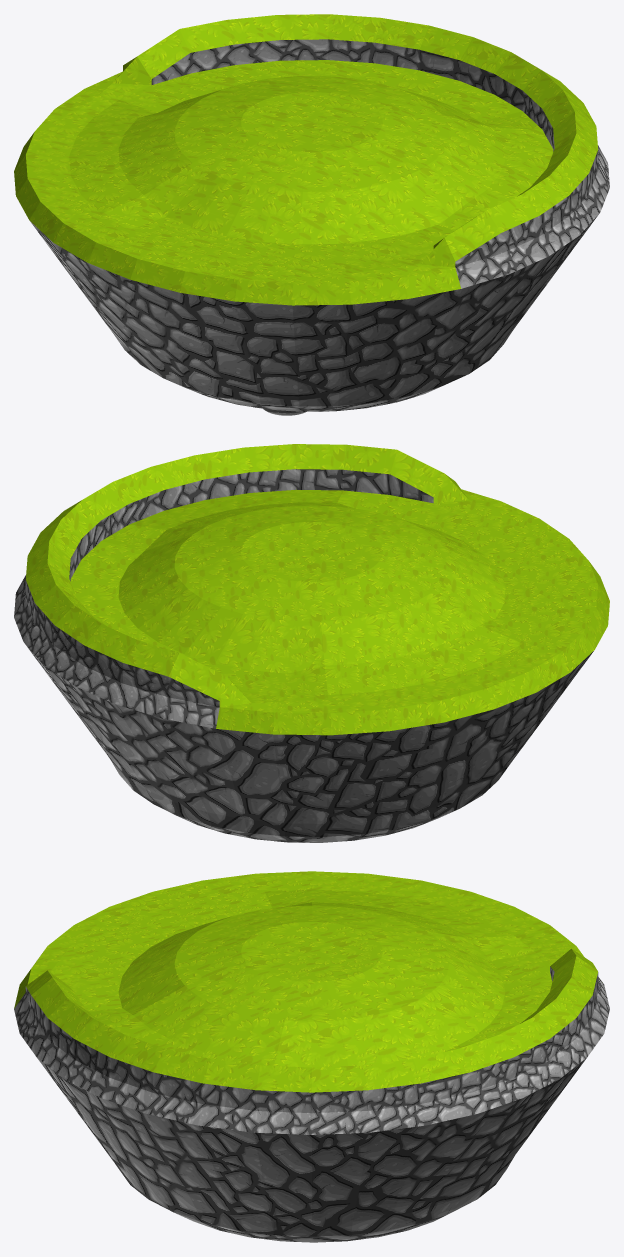
File: IslaGrande.glb
The picture shows the model from 3 angles, top to bottom: view 1: azimuth 30°, elevation 25°; view 2: azimuth 150°, elevation 25°; view 3: azimuth 270°, elevation 25°; orthographic projection.
Visible parts, largest first — view 1: Circle; view 2: Circle; view 3: Circle.
Boxes of the visible parts, bbox=[...] form: Circle: bbox=[14, 14, 609, 415]; Circle: bbox=[14, 444, 609, 842]; Circle: bbox=[14, 871, 609, 1242].
Size of the model in its own units: 29.57 by 14.7 by 29.57.
2 materials, 2 textured.
